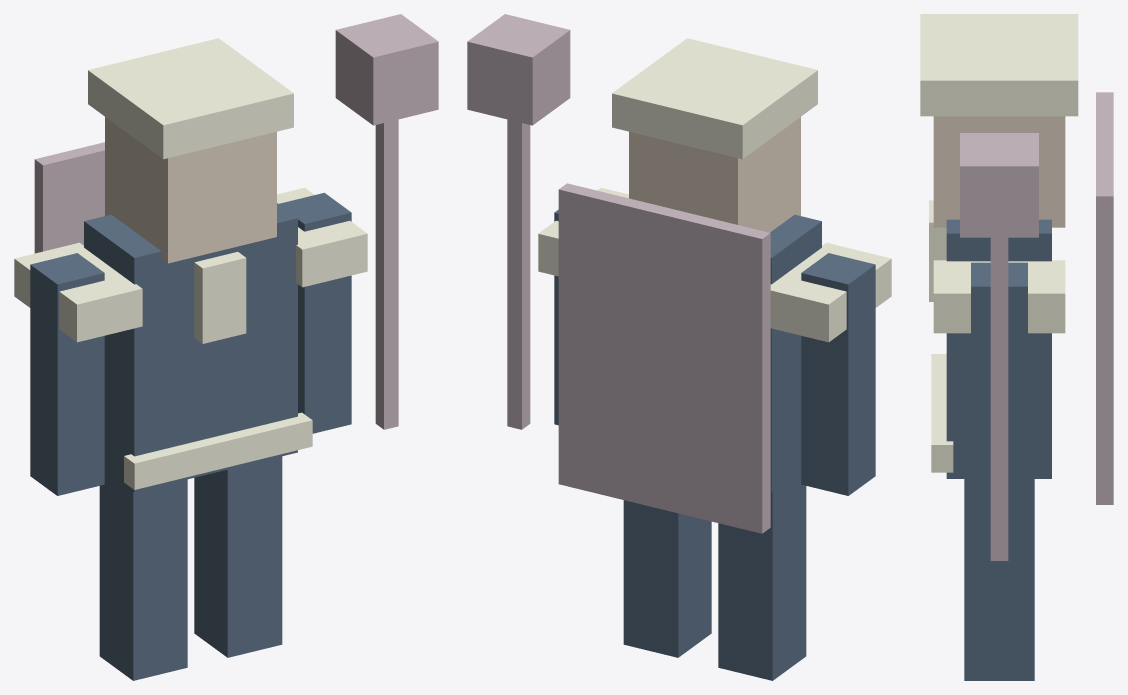
The model's file is 13_kiva_cragwarden_marshal_from_defense.glb.
3 renders of one model, left to right at view 1: azimuth 30°, elevation 25°; view 2: azimuth 150°, elevation 25°; view 3: azimuth 270°, elevation 25°, orthographic. The views are drawn at different scales.
Parts seen in each view (by area): view 1: Kiva Cragwarden, Marshal from Defense; view 2: Kiva Cragwarden, Marshal from Defense; view 3: Kiva Cragwarden, Marshal from Defense.
Part boxes in pixels (x1,y1,x2,y2): Kiva Cragwarden, Marshal from Defense: (14,14,438,680); Kiva Cragwarden, Marshal from Defense: (467,14,891,680); Kiva Cragwarden, Marshal from Defense: (920,14,1113,680).
Bounding box in the file's own units: 1.12 × 1.62 × 0.4768.
